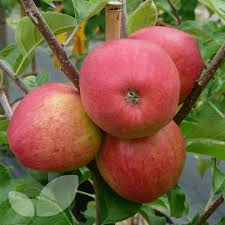apple: (78, 39, 180, 138)
obscured(0)_apple: (8, 83, 100, 174)
obscured(1)_apple: (95, 117, 186, 204)
